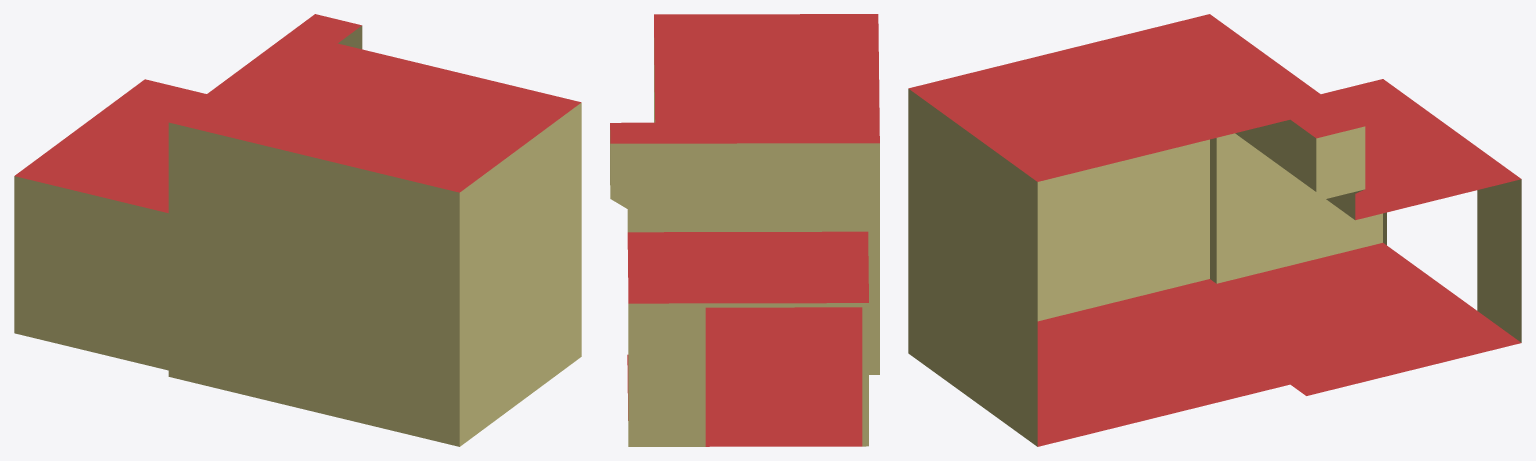
3 views of the same model, side by side, from view 1: azimuth 30°, elevation 25°; view 2: azimuth 150°, elevation 25°; view 3: azimuth 270°, elevation 25° (orthographic). The views are drawn at different scales.
Size of the model in its own units: 15.57 by 19.77 by 9.42.
